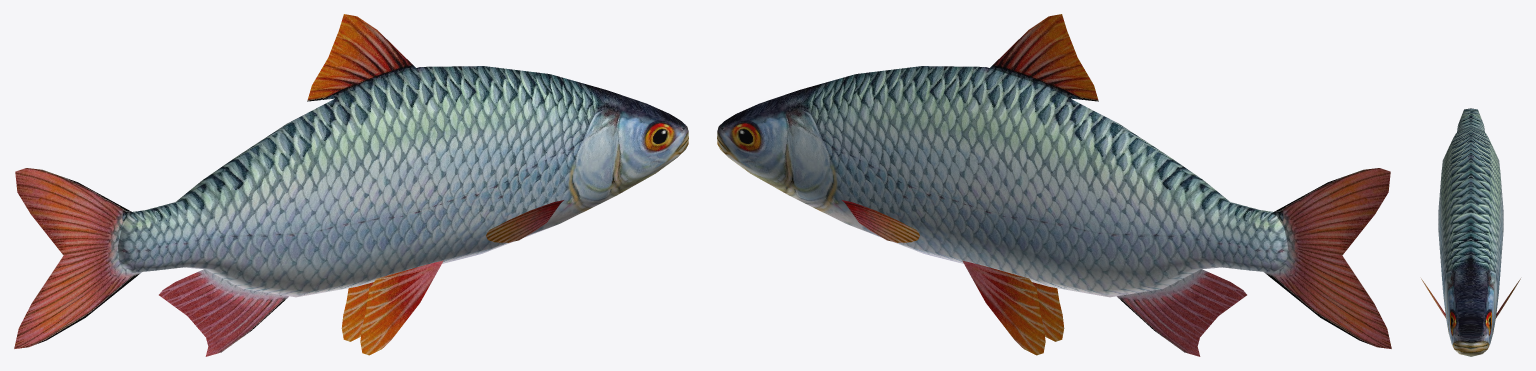
Rendered from Roach.glb.
3 renders of one model, left to right at view 1: azimuth 30°, elevation 25°; view 2: azimuth 150°, elevation 25°; view 3: azimuth 270°, elevation 25°, orthographic. The views are drawn at different scales.
Parts seen in each view (by area): view 1: Roach; view 2: Roach; view 3: Roach.
Boxes of the visible parts, x1,y1,x2,y2 form: Roach: (14,14,688,356); Roach: (717,14,1391,356); Roach: (1421,108,1520,356).
Size of the model in its own units: 2 by 0.9607 by 0.3512.
Materials: 1 (1 with a texture image).
